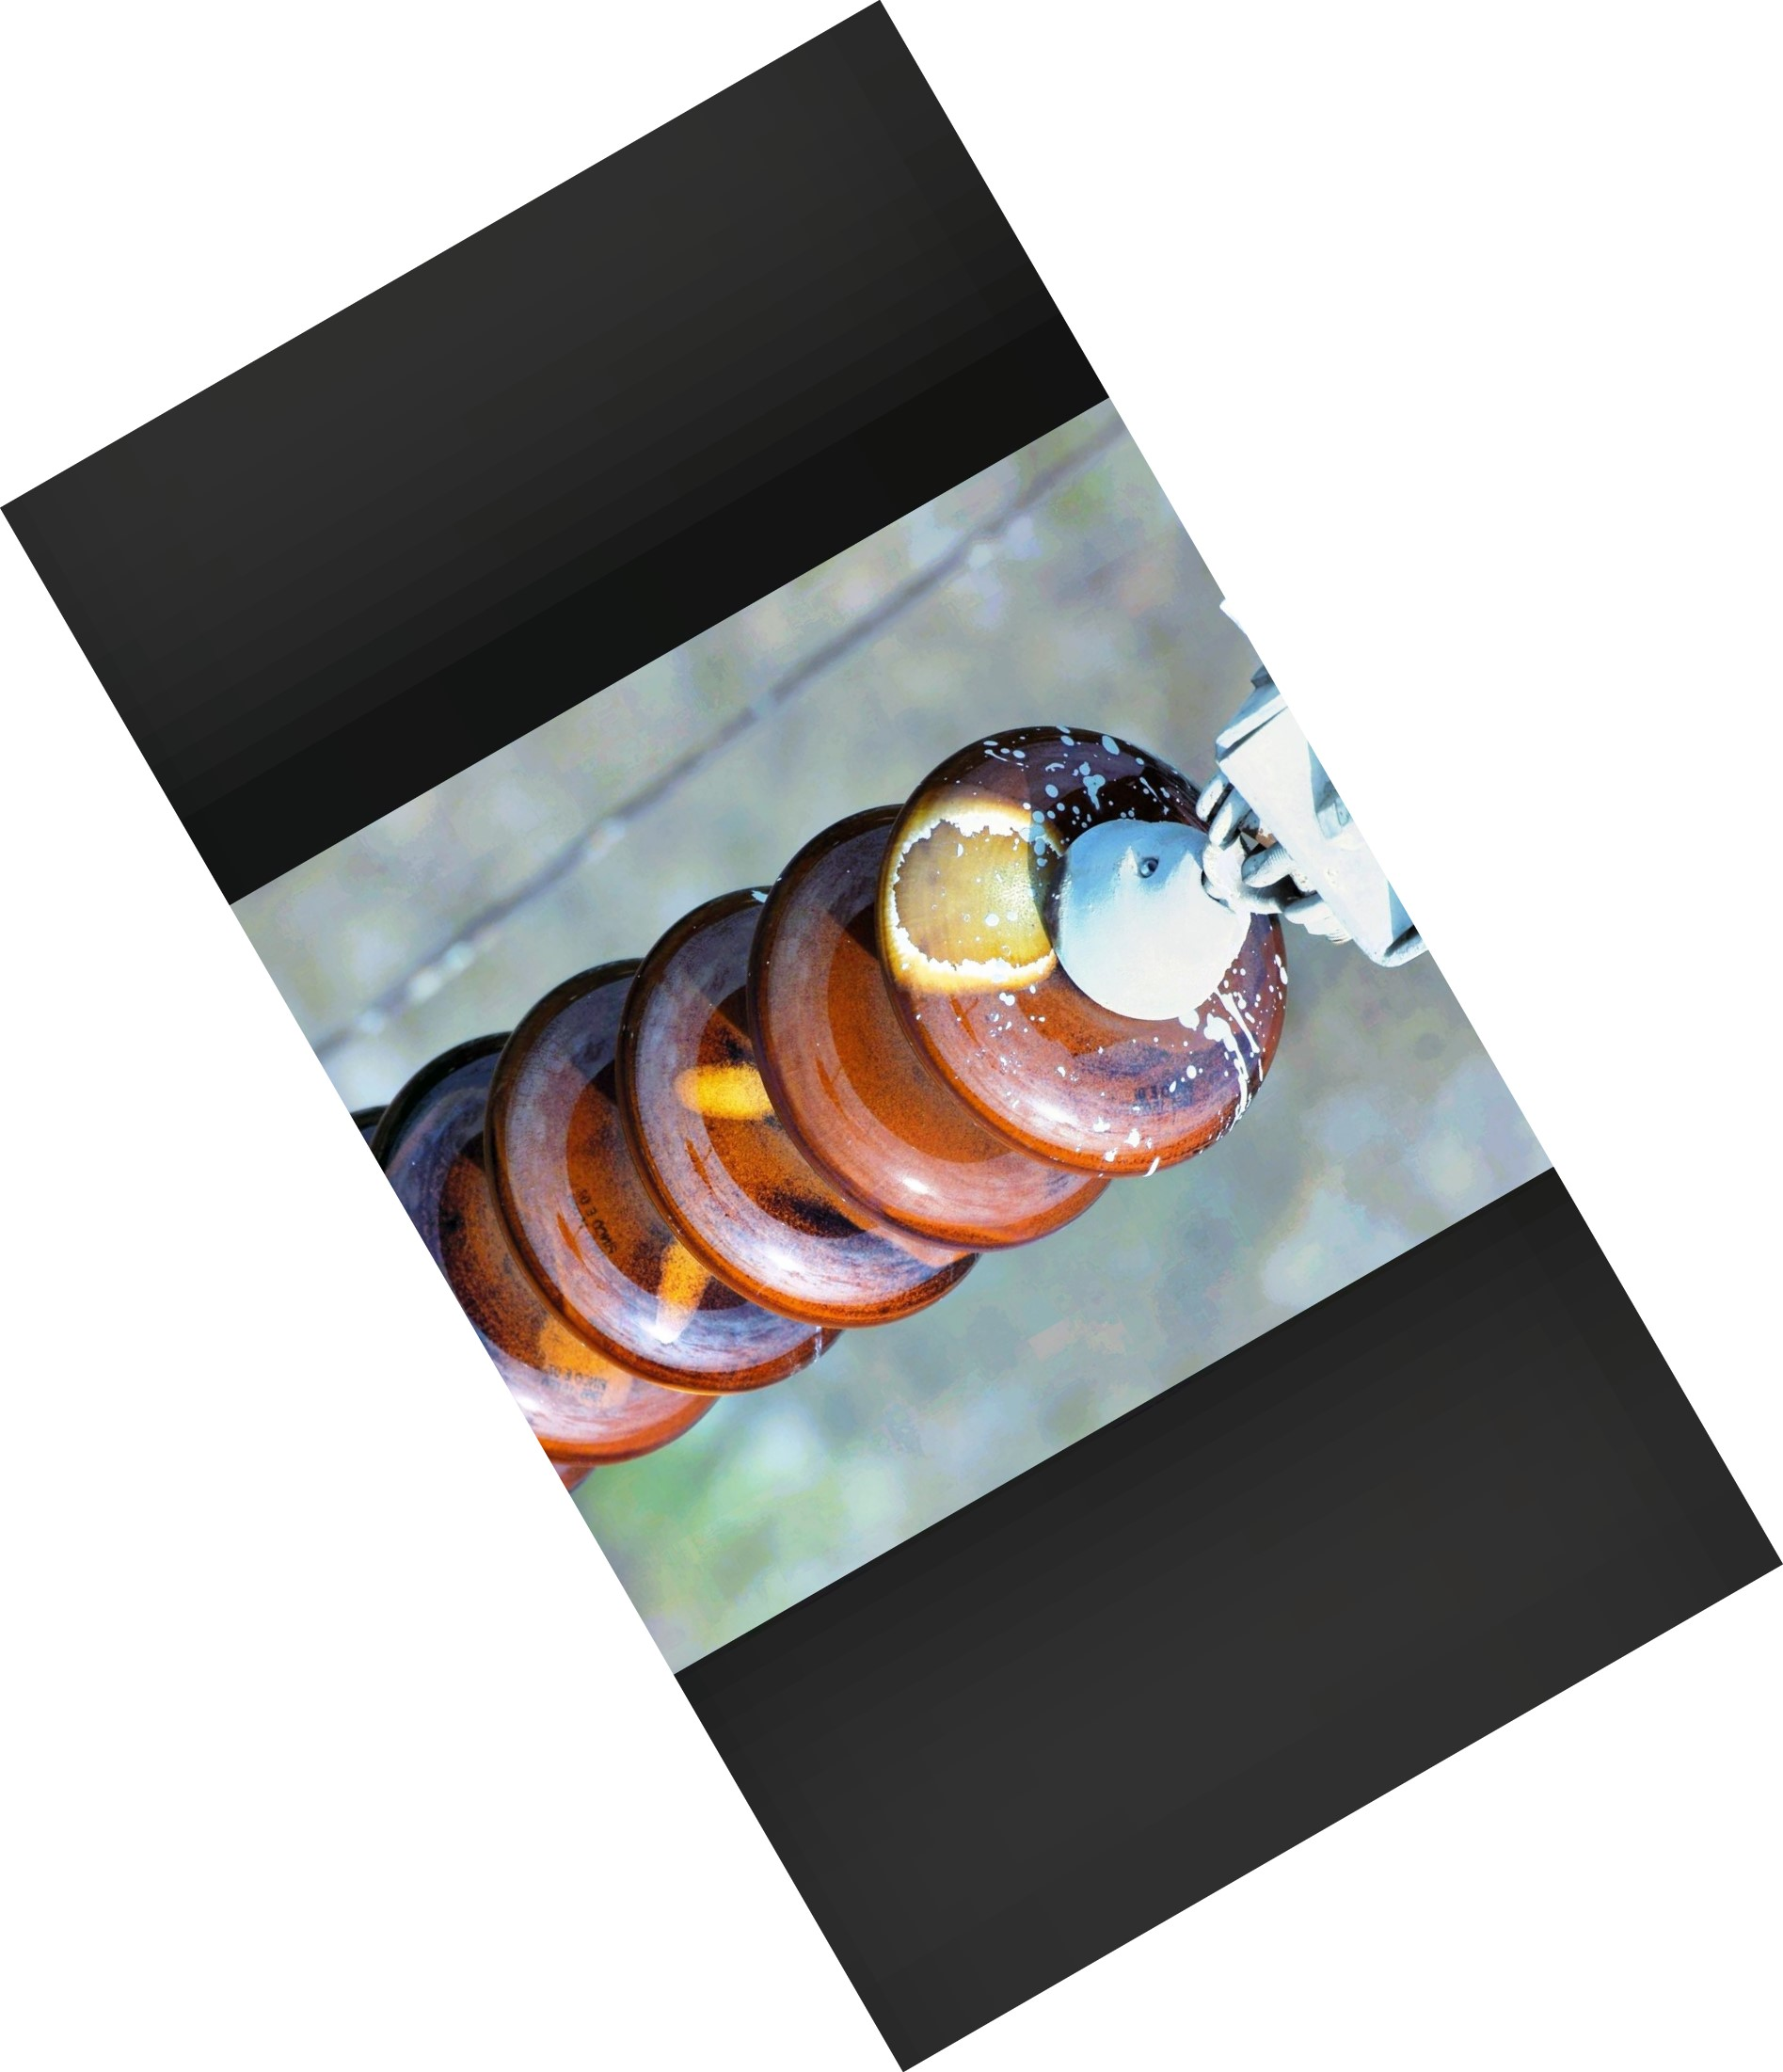Insulator flashover: (867, 712, 1311, 1189)
